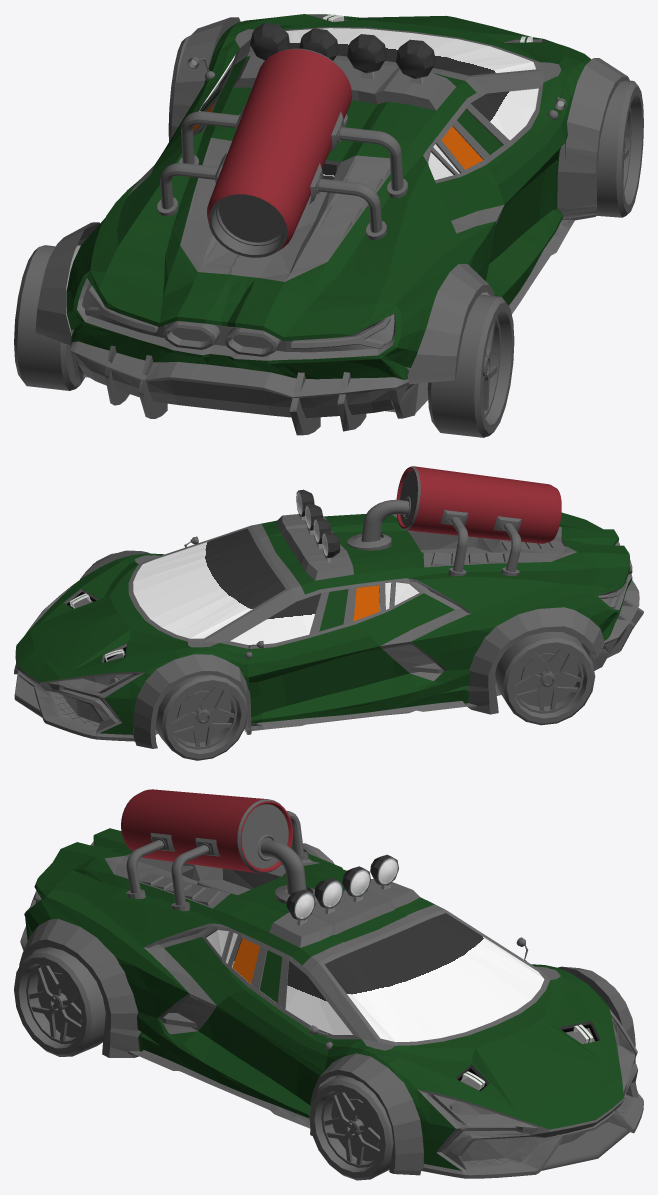
The model's file is NewCarModel.fbx.
3 renders of one model, top to bottom at view 1: azimuth 30°, elevation 25°; view 2: azimuth 150°, elevation 25°; view 3: azimuth 270°, elevation 25°, orthographic. The views are drawn at different scales.
Parts seen in each view (by area): view 1: Body.001, Cylinder.002, RearRightWheel.001, FrontRightWheel.001, RearLeftWheel.001, modLights__0; view 2: Body.001, Cylinder.002, RearLeftWheel.001, FrontLeftWheel.001, modLights__0; view 3: Body.001, Cylinder.002, RearRightWheel.001, FrontRightWheel.001, modLights__0.
Part boxes in pixels (x1,y1,x2,y2): Body.001: [35, 14, 629, 435]; Cylinder.002: [157, 48, 407, 257]; RearRightWheel.001: [427, 294, 514, 437]; FrontRightWheel.001: [596, 80, 643, 217]; RearLeftWheel.001: [14, 245, 84, 390]; modLights__0: [250, 22, 436, 84]; Body.001: [14, 512, 643, 748]; Cylinder.002: [347, 466, 561, 576]; RearLeftWheel.001: [495, 632, 595, 725]; FrontLeftWheel.001: [155, 674, 248, 760]; modLights__0: [296, 489, 340, 562]; Body.001: [19, 828, 643, 1178]; Cylinder.002: [121, 789, 317, 911]; RearRightWheel.001: [14, 947, 105, 1056]; FrontRightWheel.001: [309, 1075, 393, 1180]; modLights__0: [286, 854, 398, 925].
Bounding box in the file's own units: 8389 × 3389 × 8363.
10 materials, 3 textured.
